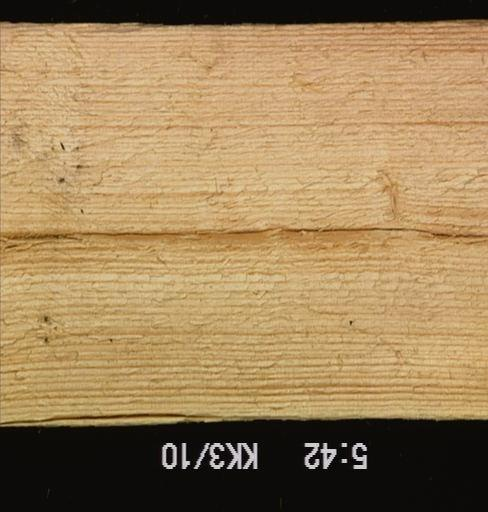small_knot: (372, 169, 401, 216)
split: (0, 228, 273, 242), (278, 226, 486, 240)
